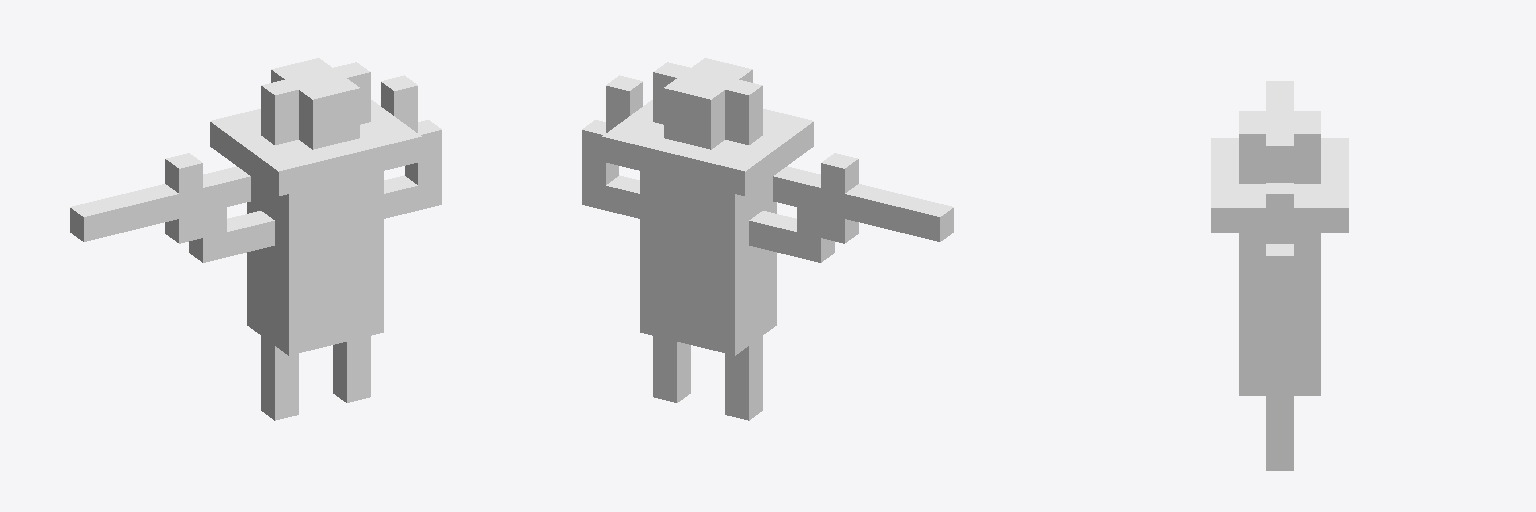
File: take_dmg.obj
3 renders of one model, left to right at view 1: azimuth 30°, elevation 25°; view 2: azimuth 150°, elevation 25°; view 3: azimuth 270°, elevation 25°, orthographic.
Bounding box in the file's own units: 15 × 13 × 5.